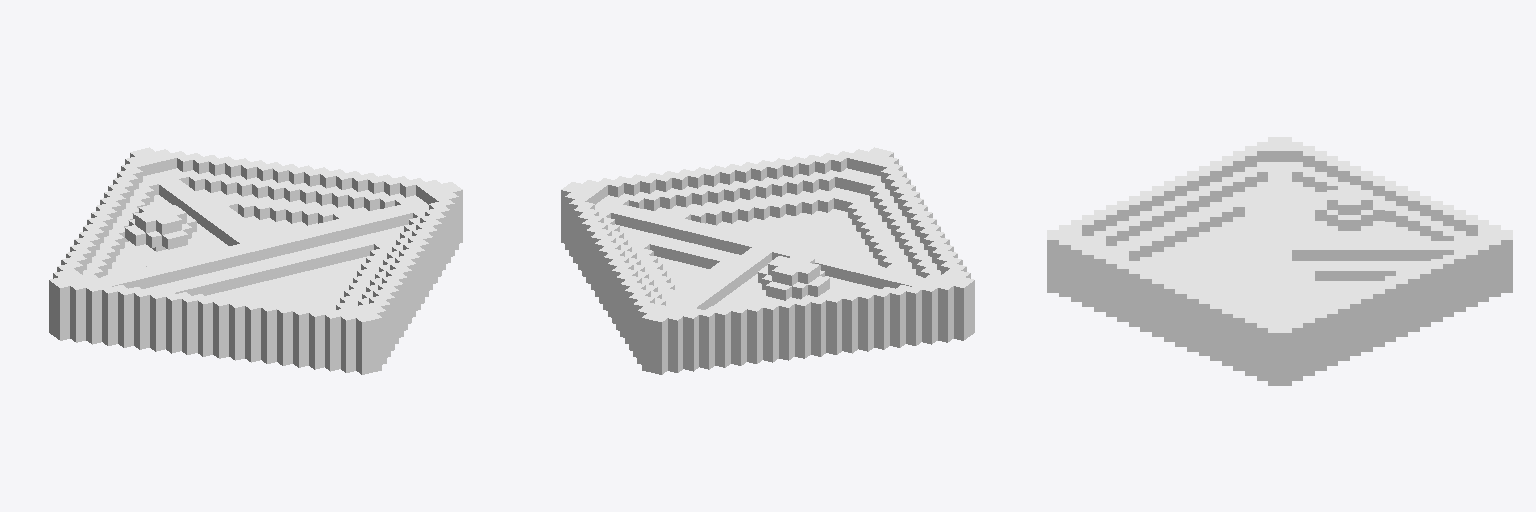
File: WaterLily1.obj
3 views of the same model, side by side, from view 1: azimuth 30°, elevation 25°; view 2: azimuth 150°, elevation 25°; view 3: azimuth 270°, elevation 25° (orthographic).
Bounding box in the file's own units: 40 × 6 × 40.